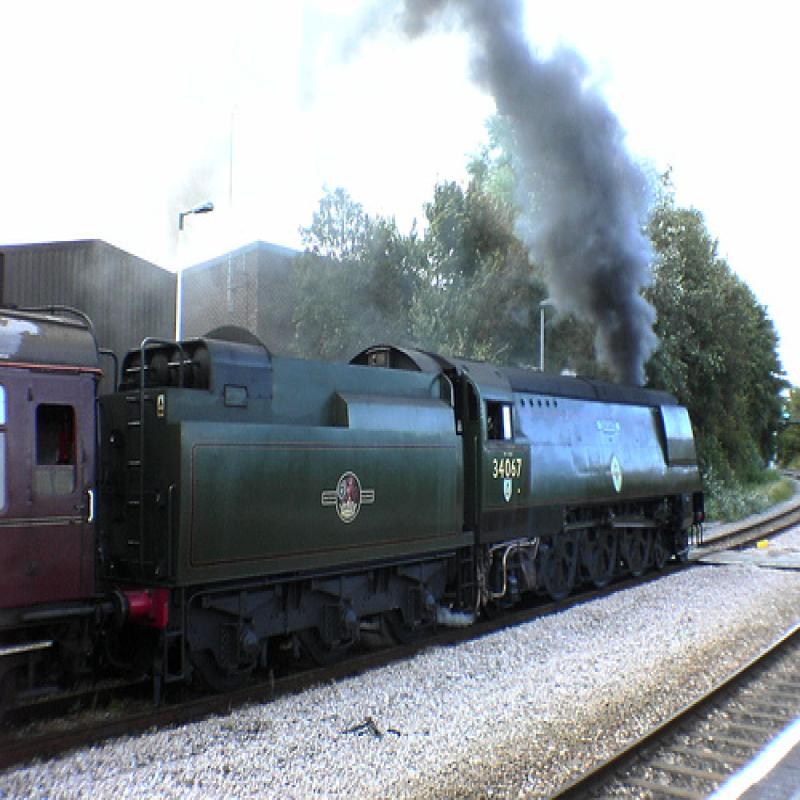train: (3, 293, 718, 731)
